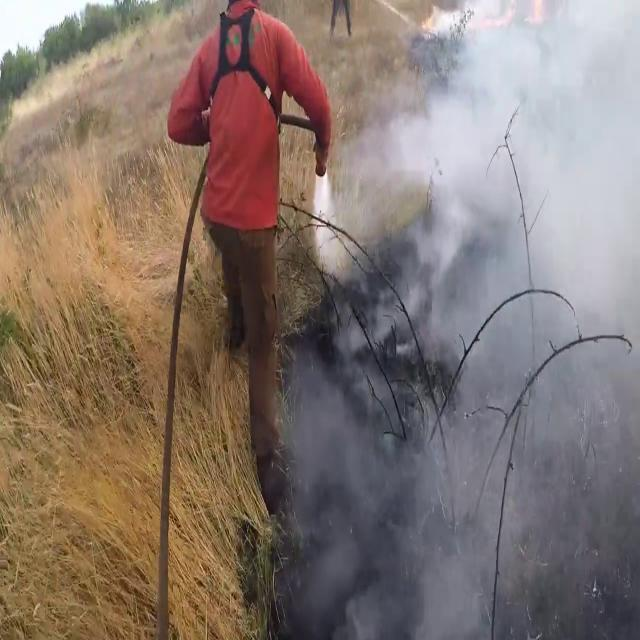Smoke: (278, 1, 640, 632)
